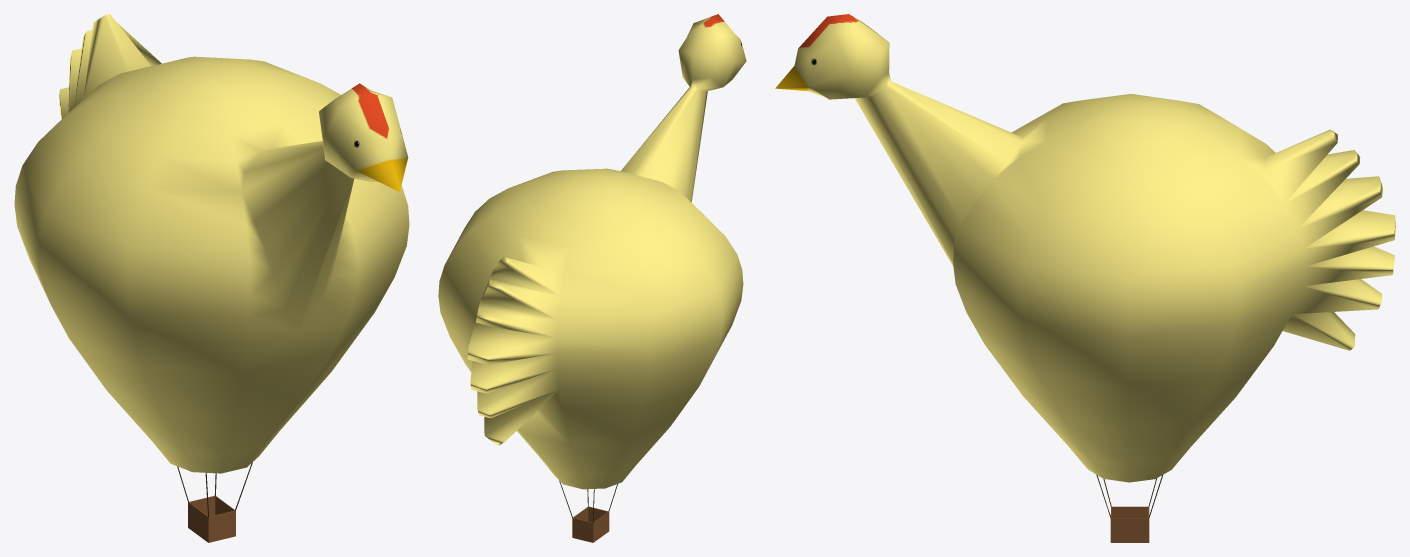
The model's file is Bird_HotAirBalloon.fbx.
3 renders of one model, left to right at view 1: azimuth 30°, elevation 25°; view 2: azimuth 150°, elevation 25°; view 3: azimuth 270°, elevation 25°, orthographic. The views are drawn at different scales.
Visible parts, largest first — view 1: Bird_HotAirBalloon; view 2: Bird_HotAirBalloon; view 3: Bird_HotAirBalloon.
Boxes of the visible parts, x1,y1,x2,y2 form: Bird_HotAirBalloon: (14,14,409,542); Bird_HotAirBalloon: (438,14,746,542); Bird_HotAirBalloon: (775,14,1395,542).
Size of the model in its own units: 1761 by 2738 by 2956.
